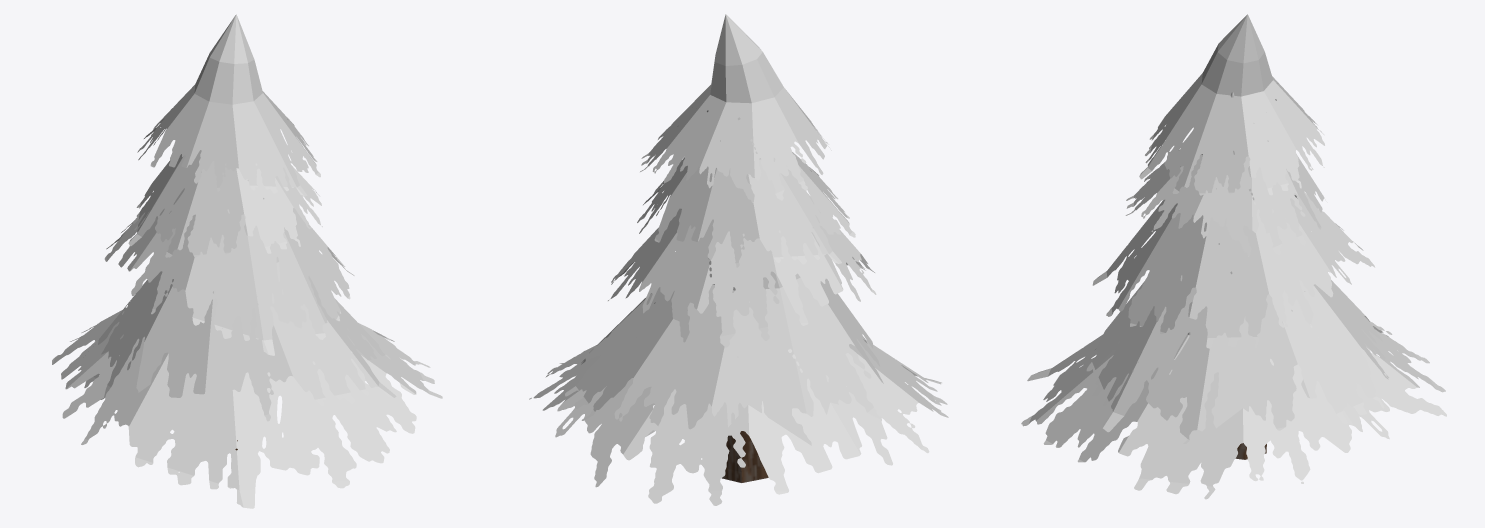
The model's file is Tree.fbx.
The picture shows the model from 3 angles, left to right: view 1: azimuth 30°, elevation 25°; view 2: azimuth 150°, elevation 25°; view 3: azimuth 270°, elevation 25°; orthographic projection. The views are drawn at different scales.
Parts seen in each view (by area): view 1: Pine tree; view 2: Pine tree; view 3: Pine tree.
Part boxes in pixels (box(x1,y1,x2,y2)): Pine tree: box(52, 14, 442, 508); Pine tree: box(529, 14, 948, 505); Pine tree: box(1021, 14, 1446, 499).
Bounding box in the file's own units: 997 × 1039 × 1015.
